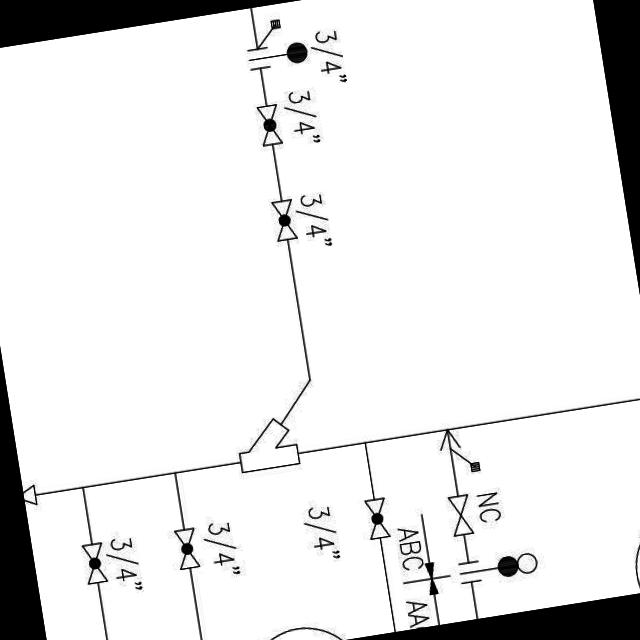BV2: (359, 490, 398, 544), (252, 99, 288, 156), (169, 520, 205, 576), (78, 538, 115, 588), (269, 192, 303, 244)
GV: (444, 490, 478, 540)
